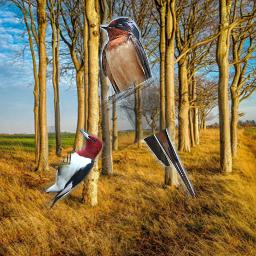Swallow: (100, 16, 195, 197)
Woodpecker: (39, 126, 107, 213)
